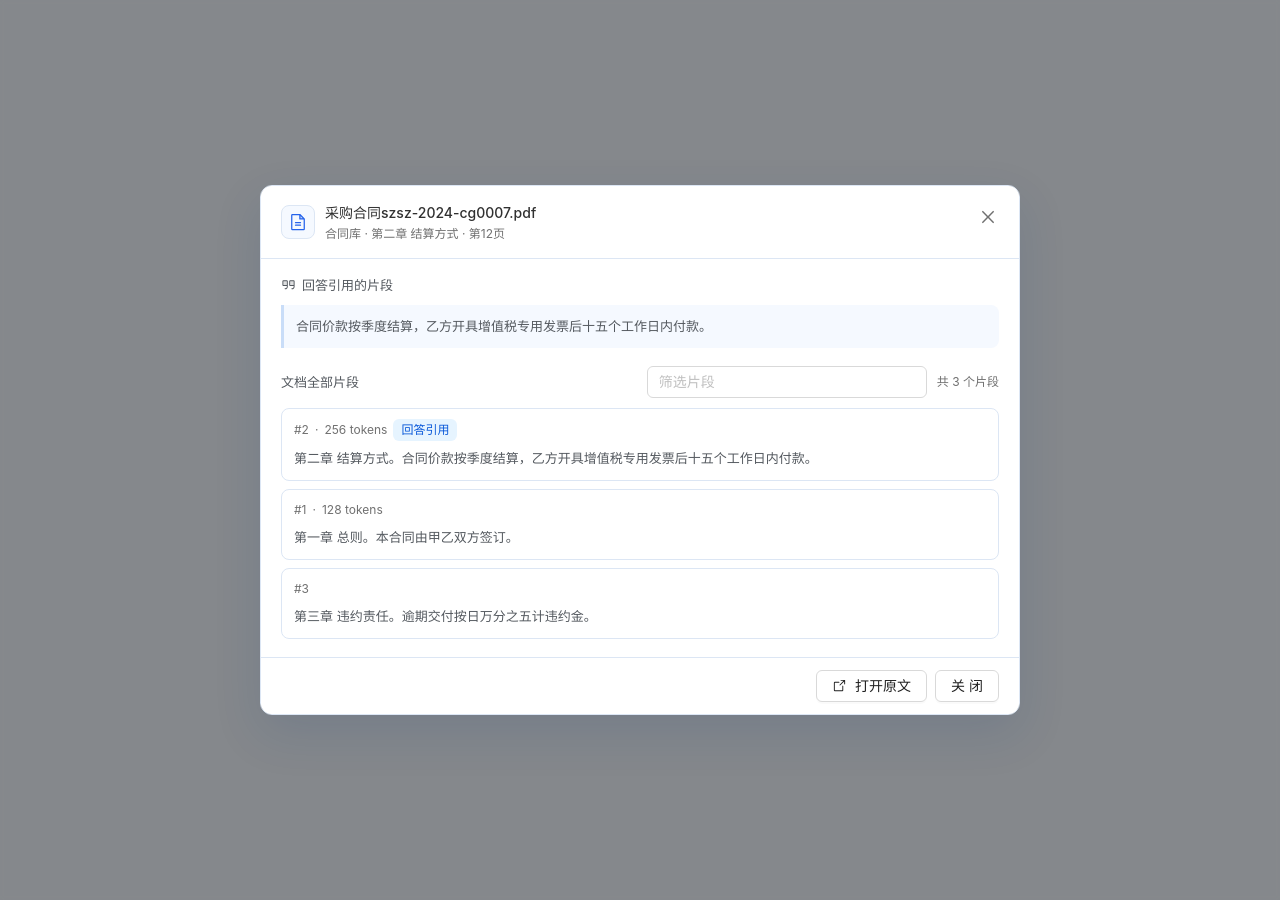
it: DataHubCitationFragments › 关键字过滤只留下命中的切块
This screenshot has width=1280, height=900.
Check: the text "共 3 个片段" is shown, box [937, 372, 999, 391]
Type "违约" into the field labelled "筛选片段" at (779, 382), box [659, 371, 899, 393]
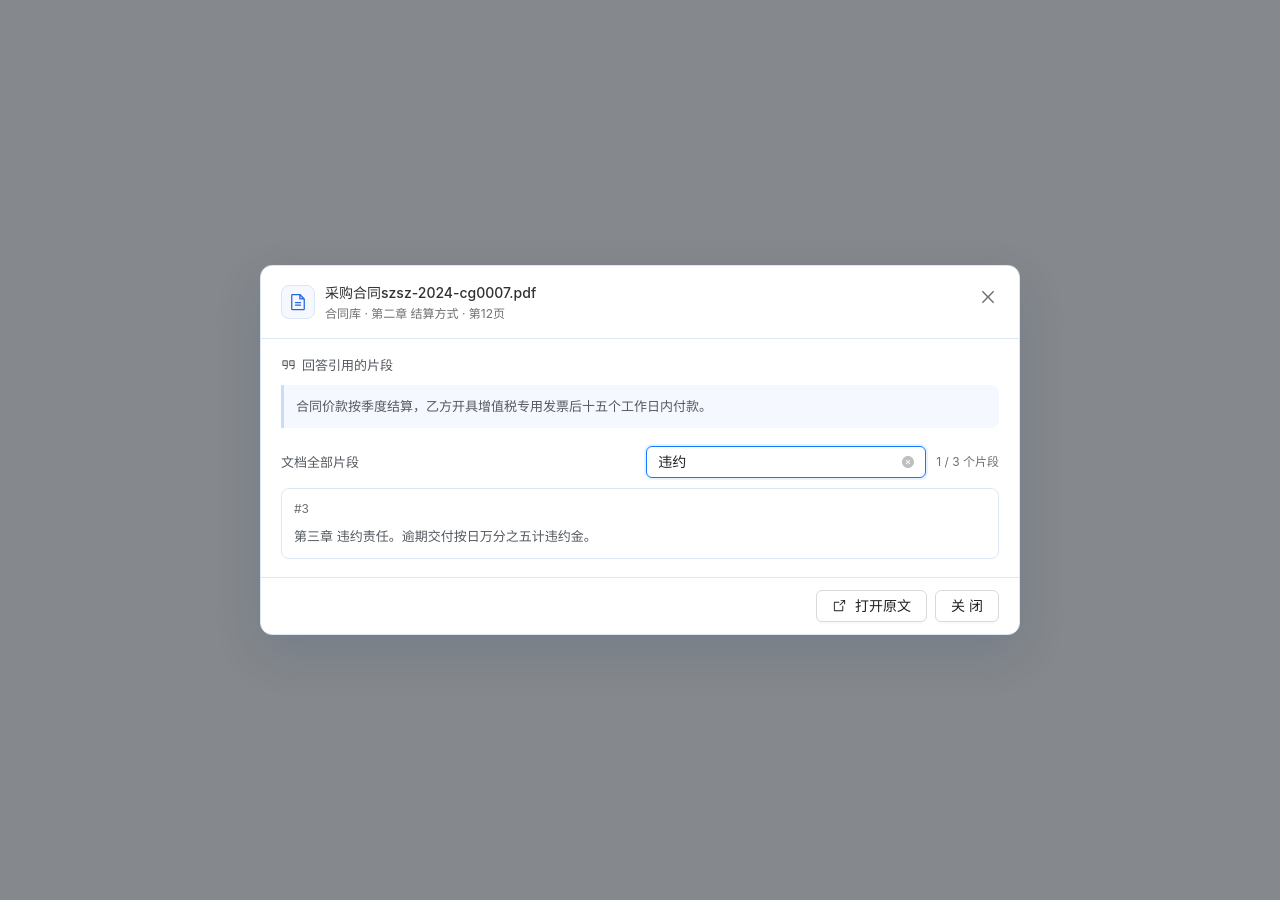
Check: the text "第三章 违约责任。逾期交付按日万分之五计违约金。" is shown, box [294, 528, 597, 544]
Check: the text "1 / 3 个片段" is shown, box [936, 453, 999, 471]
Check: the text "第一章 总则" is gone
Clear the field named "筛选片段" at (778, 462), box [658, 451, 898, 473]
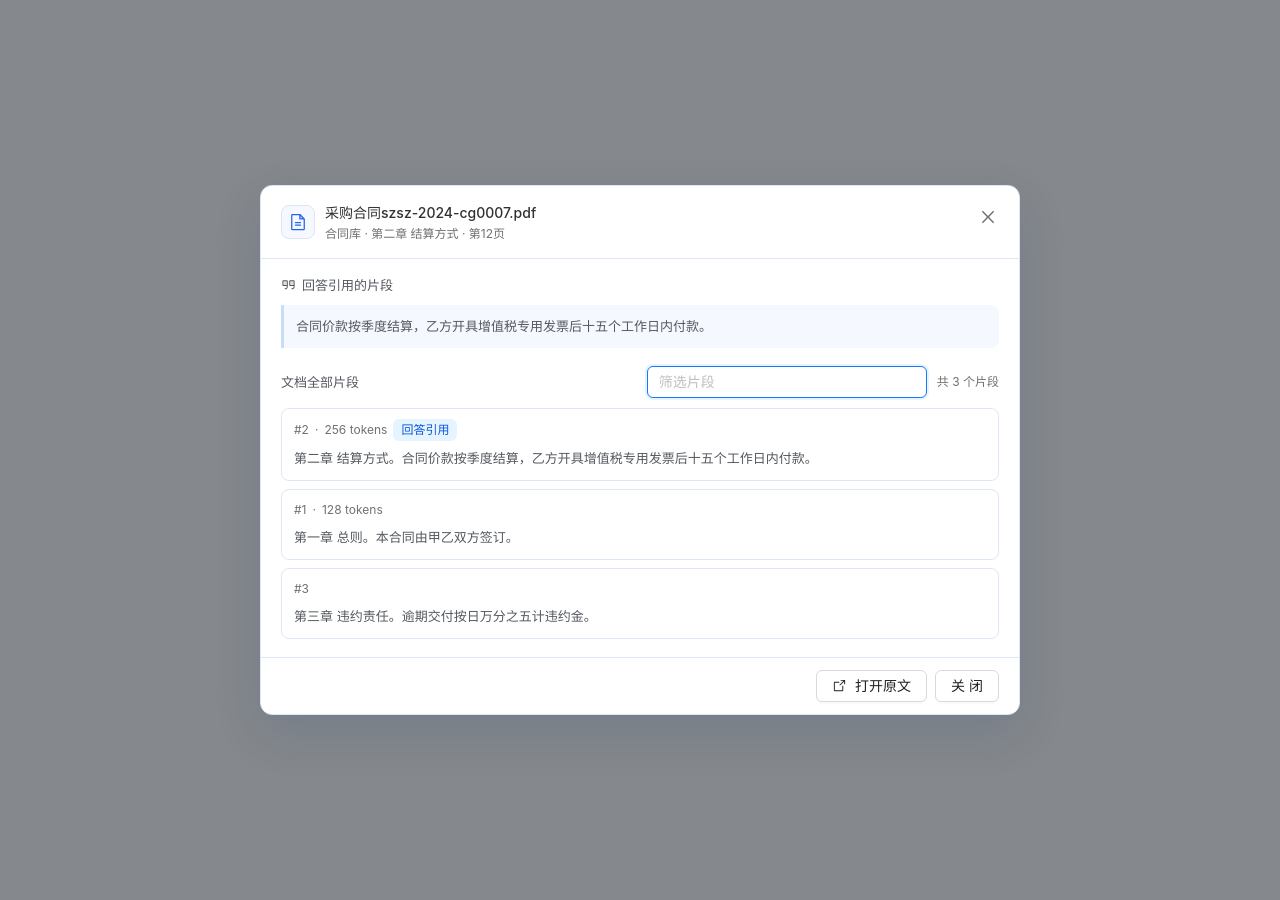
Check: the text "共 3 个片段" is shown, box [937, 372, 999, 391]
Check: the text "第一章 总则。本合同由甲乙双方签订。" is shown, box [294, 529, 519, 545]
